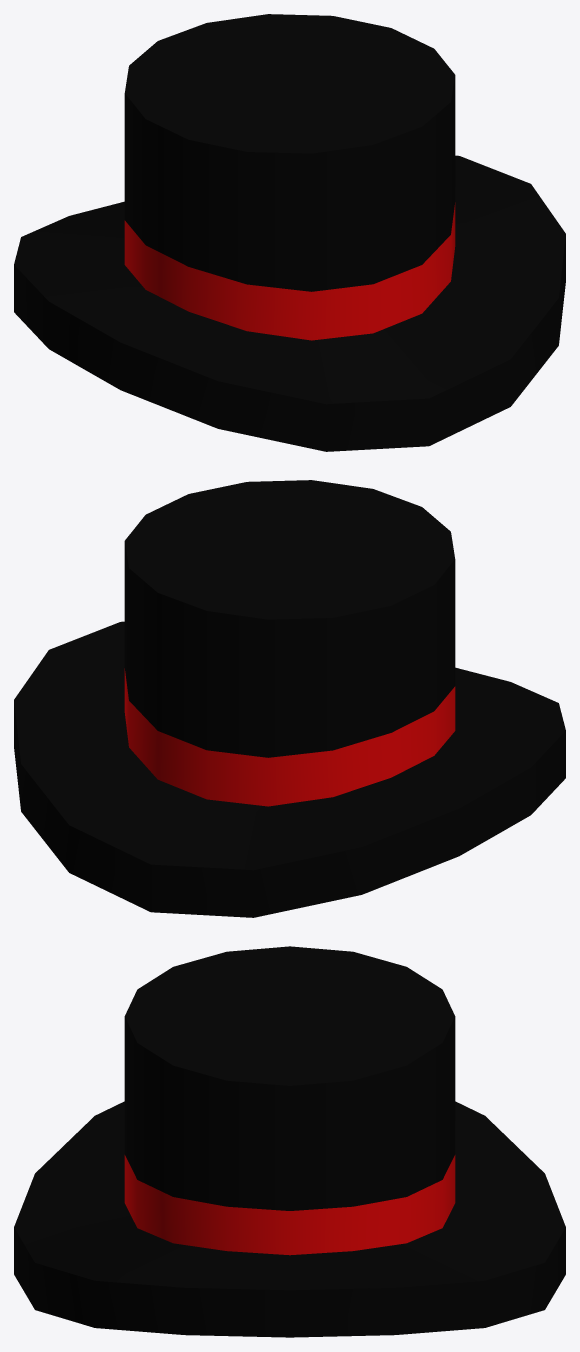
The model's file is F_TopHat_01.fbx.
The picture shows the model from 3 angles, top to bottom: view 1: azimuth 30°, elevation 25°; view 2: azimuth 150°, elevation 25°; view 3: azimuth 270°, elevation 25°; orthographic projection.
Visible parts, largest first — view 1: F_TopHat_01; view 2: F_TopHat_01; view 3: F_TopHat_01.
Part boxes in pixels (x1,y1,x2,y2): F_TopHat_01: (14,14,565,451); F_TopHat_01: (14,480,565,917); F_TopHat_01: (14,946,565,1337).
Bounding box in the file's own units: 334 × 172 × 334.
